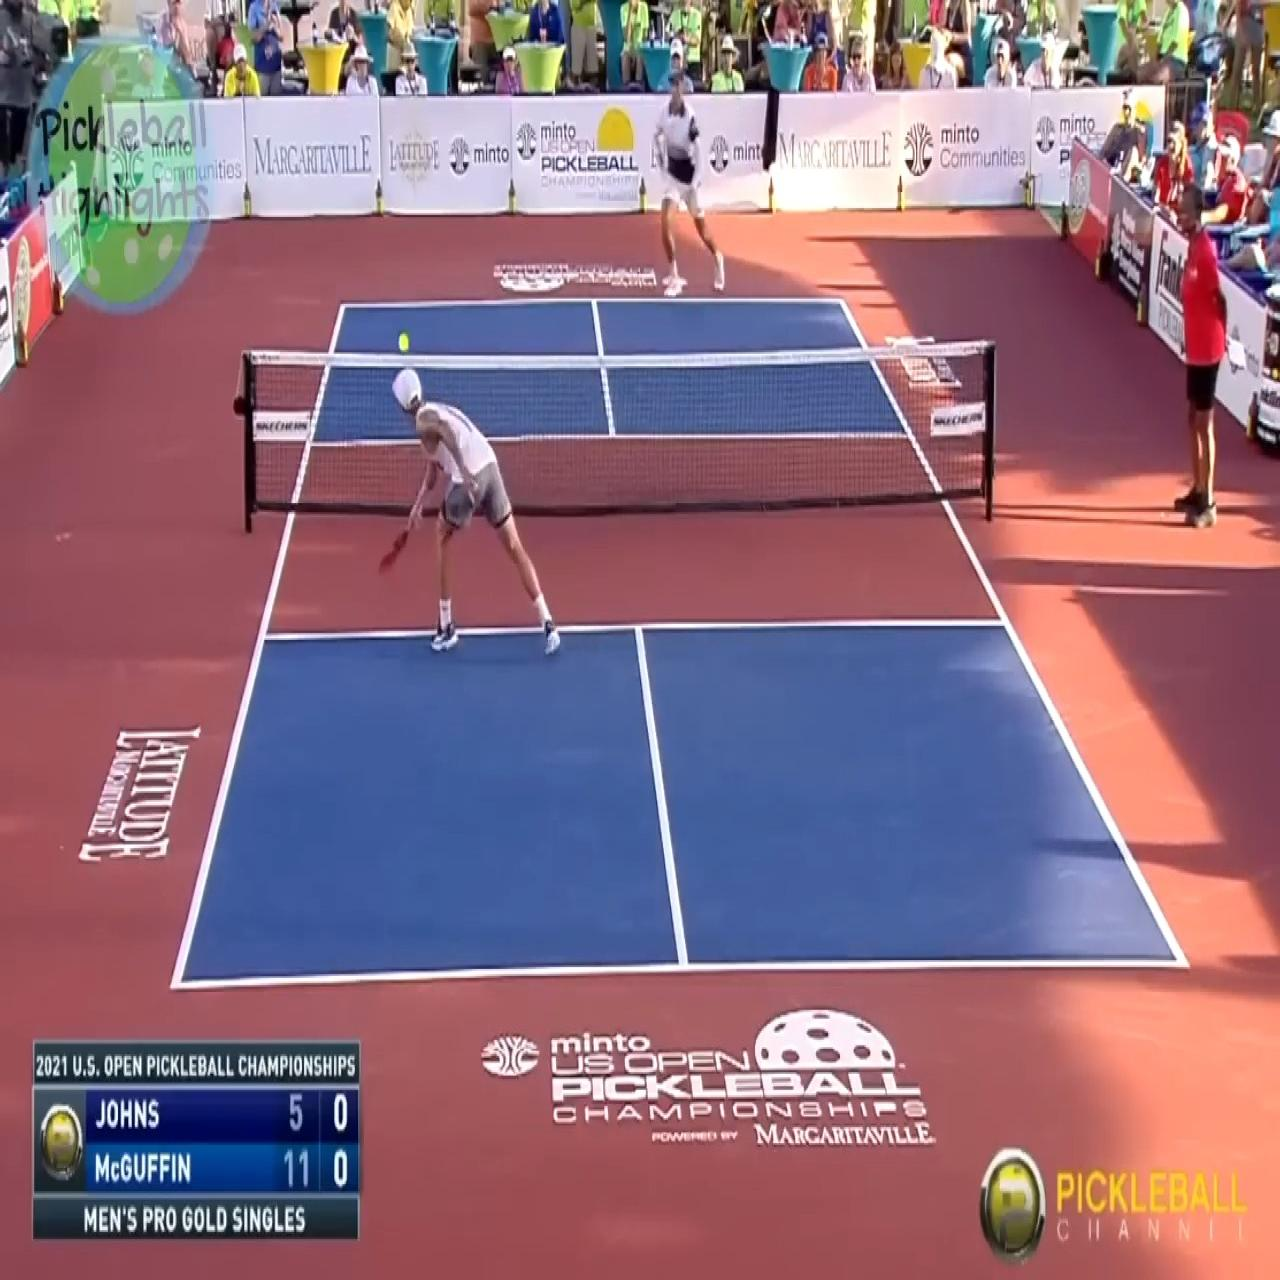pickleball: (399, 331, 409, 352)
